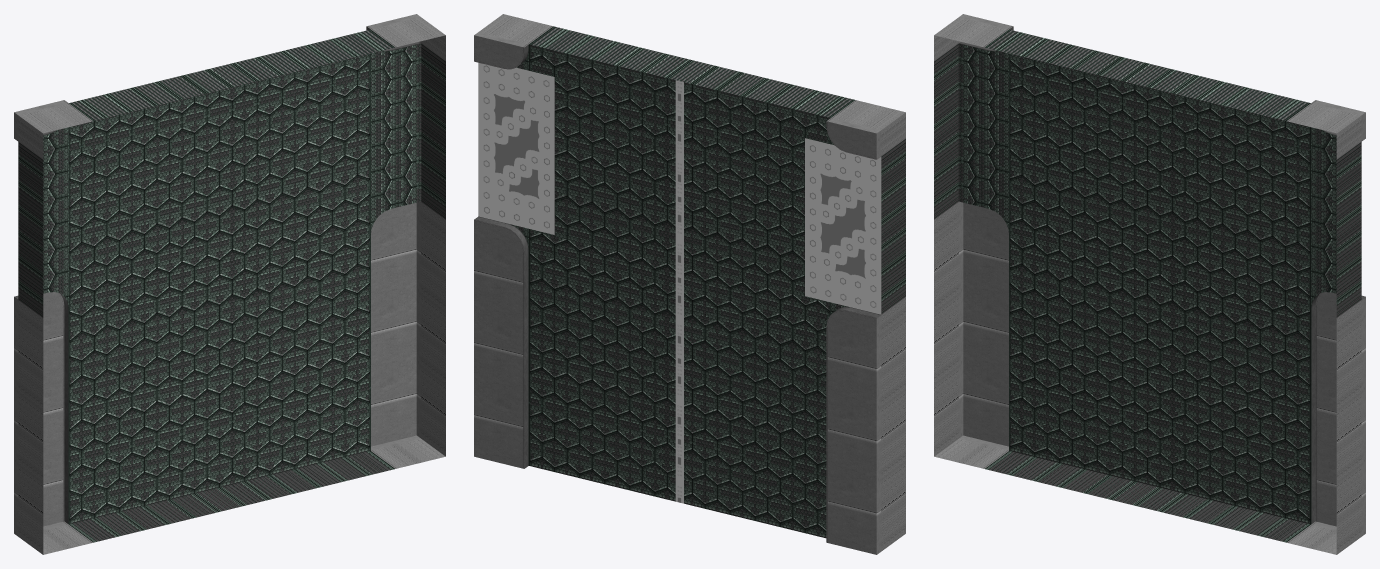
The model's file is TC_road_crossroad_B.fbx.
The picture shows the model from 3 angles, left to right: view 1: azimuth 30°, elevation 25°; view 2: azimuth 150°, elevation 25°; view 3: azimuth 330°, elevation 25°; orthographic projection.
Parts seen in each view (by area): view 1: TC_road_crossroad_B; view 2: TC_road_crossroad_B, crosswalk, light_002; view 3: TC_road_crossroad_B.
Part boxes in pixels (<box>): TC_road_crossroad_B: <box>14,14,445,554</box>; TC_road_crossroad_B: <box>474,14,905,554</box>; crosswalk: <box>478,62,881,314</box>; light_002: <box>675,80,683,503</box>; TC_road_crossroad_B: <box>934,14,1365,554</box>.
Bounding box in the file's own units: 8 × 8 × 1.
